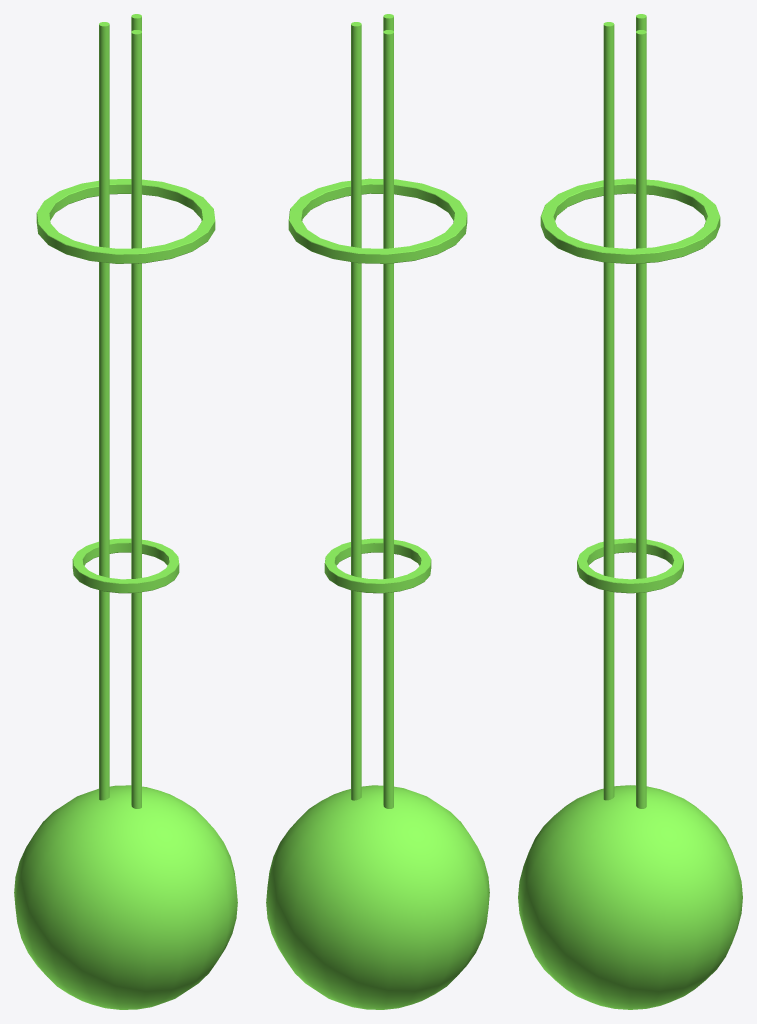
The model's file is LamparaPelotaGeo.fbx.
The picture shows the model from 3 angles, left to right: view 1: azimuth 30°, elevation 25°; view 2: azimuth 150°, elevation 25°; view 3: azimuth 270°, elevation 25°; orthographic projection.
Parts seen in each view (by area): view 1: Pelota, PelotaSoporte1, PelotaSoporte2, PelotaTorusA, PelotaTorusB; view 2: Pelota, PelotaSoporte2, PelotaSoporte3, PelotaTorusA, PelotaTorusB; view 3: Pelota, PelotaSoporte1, PelotaSoporte3, PelotaTorusA, PelotaTorusB.
Part boxes in pixels (x1=…): Pelota: x1=14, y1=785, x2=237, y2=1009; PelotaSoporte1: x1=131, y1=30, x2=141, y2=808; PelotaSoporte2: x1=99, y1=22, x2=109, y2=800; PelotaTorusA: x1=36, y1=179, x2=215, y2=263; PelotaTorusB: x1=72, y1=538, x2=179, y2=593; Pelota: x1=266, y1=785, x2=489, y2=1009; PelotaSoporte2: x1=383, y1=30, x2=393, y2=808; PelotaSoporte3: x1=351, y1=22, x2=361, y2=800; PelotaTorusA: x1=288, y1=178, x2=467, y2=263; PelotaTorusB: x1=324, y1=538, x2=431, y2=593; Pelota: x1=518, y1=785, x2=742, y2=1009; PelotaSoporte1: x1=603, y1=22, x2=614, y2=800; PelotaSoporte3: x1=636, y1=30, x2=646, y2=808; PelotaTorusA: x1=540, y1=178, x2=720, y2=263; PelotaTorusB: x1=577, y1=538, x2=683, y2=593.
Bounding box in the file's own units: 5.77 × 27.61 × 5.77.
